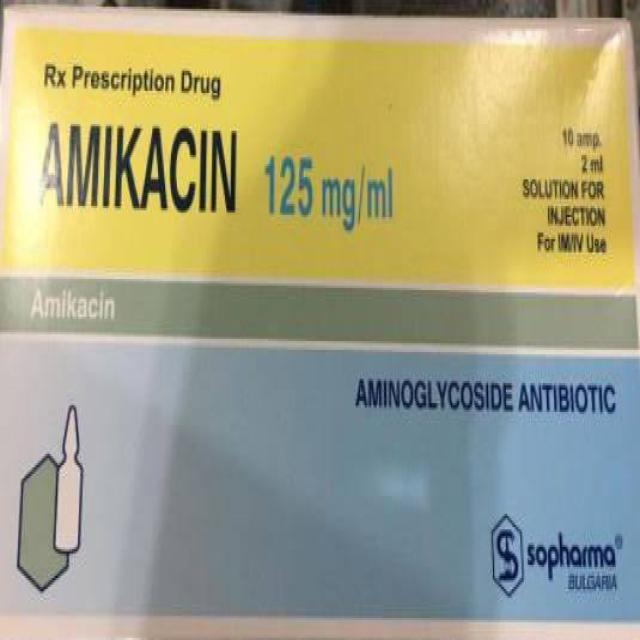drug-name: (31, 111, 240, 225)
